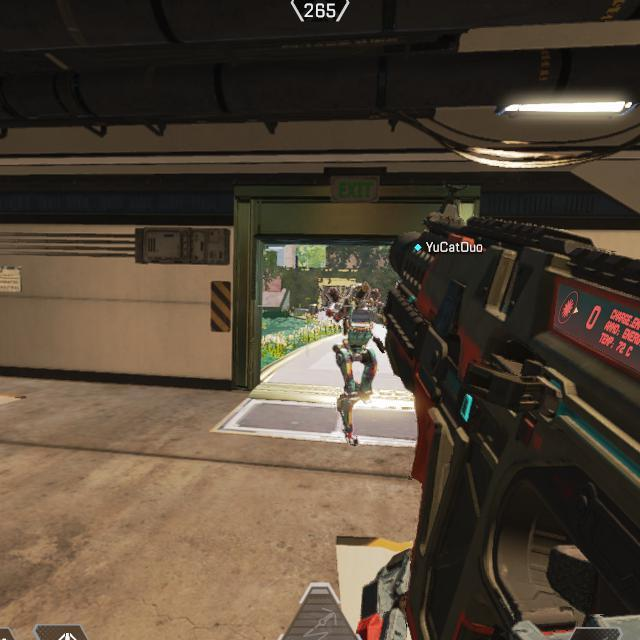avatar: (323, 280, 386, 448)
